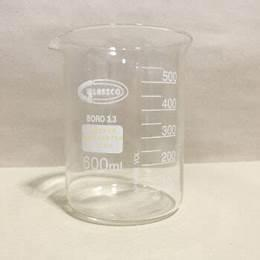Beaker: (49, 28, 196, 231)
